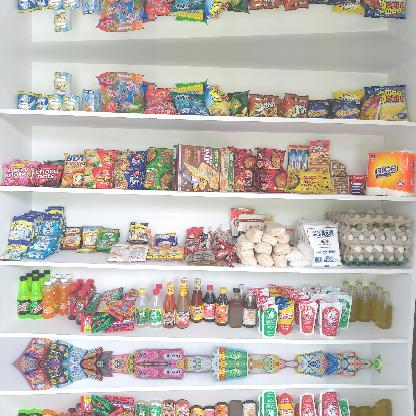Koko-Krunch: (172, 142, 236, 194)
